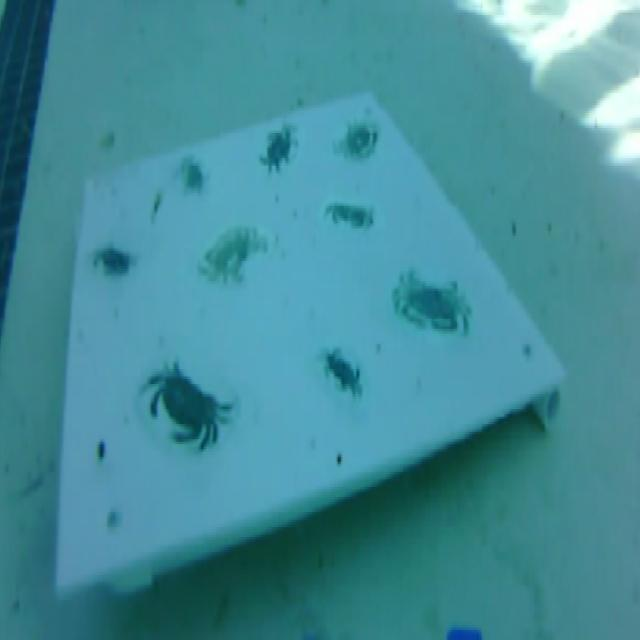green_crab: (259, 123, 296, 171), (325, 349, 361, 389), (181, 158, 204, 191)
jonah_crab: (394, 269, 472, 334), (198, 226, 269, 284), (334, 120, 379, 161)
rock_crab: (141, 361, 234, 444), (325, 203, 373, 226), (94, 246, 132, 271)
